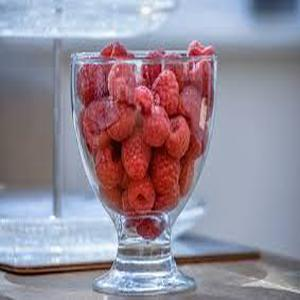raspb: (109, 77, 177, 211)
